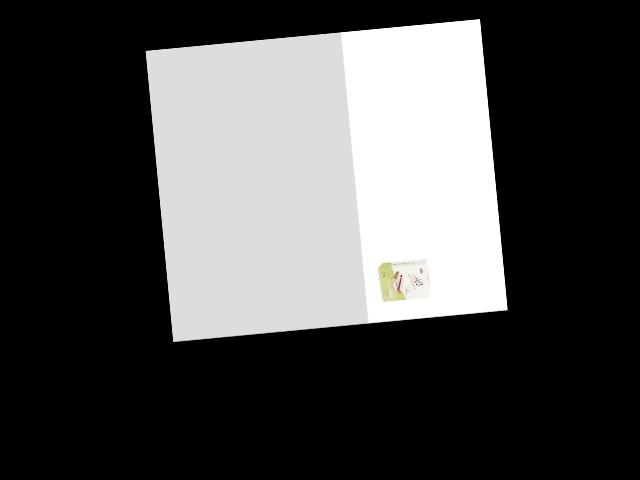chocolate: (376, 255, 431, 303)
